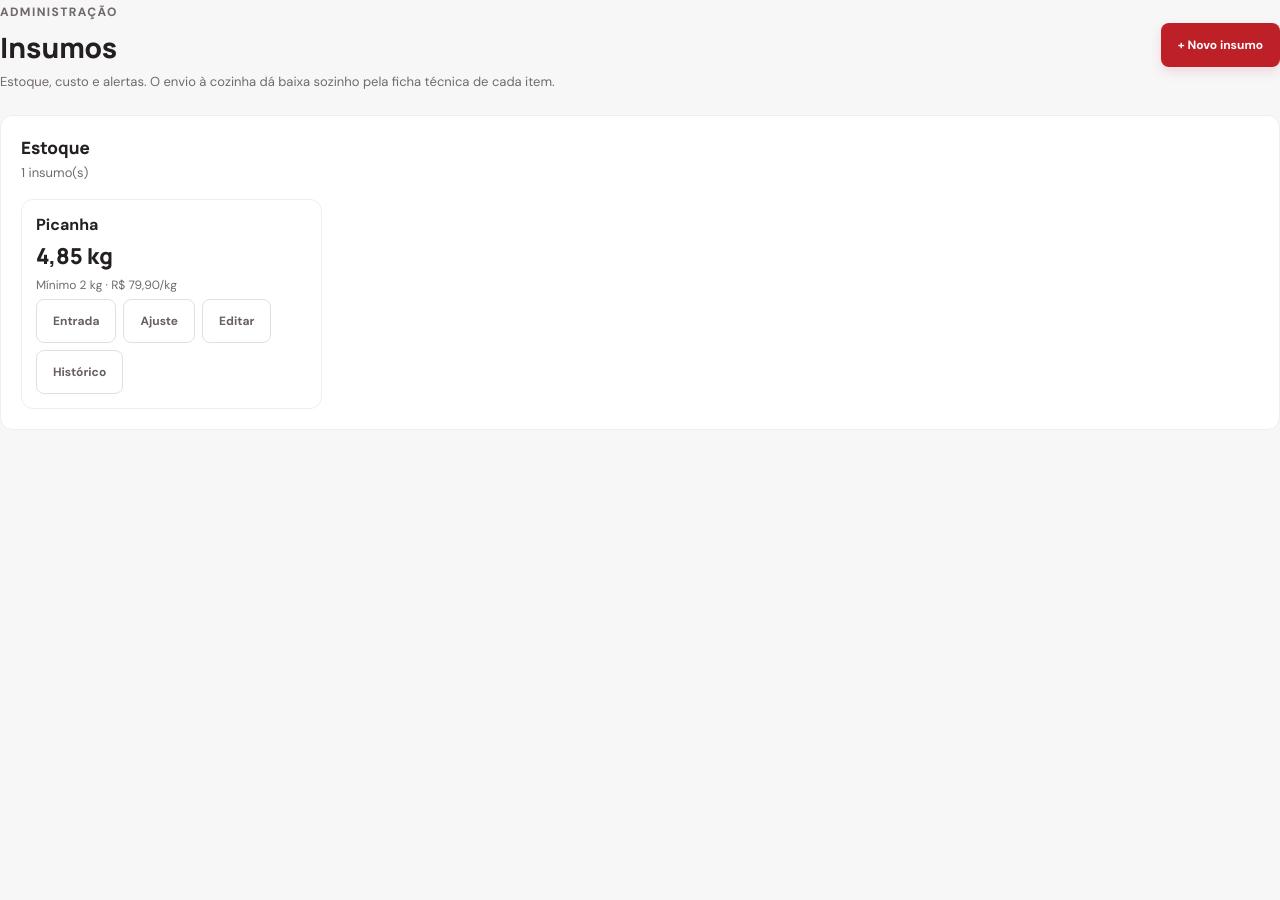
Histórico do insumo por período, turno e CSV (spec 018) › sem turno aberto, "Só o turno atual" fica desabilitado com a dica
What coordinates should you click on to do the following:
click the button "Histórico"
I would click on:
 (80, 372)
Its box is [36,350,123,394].
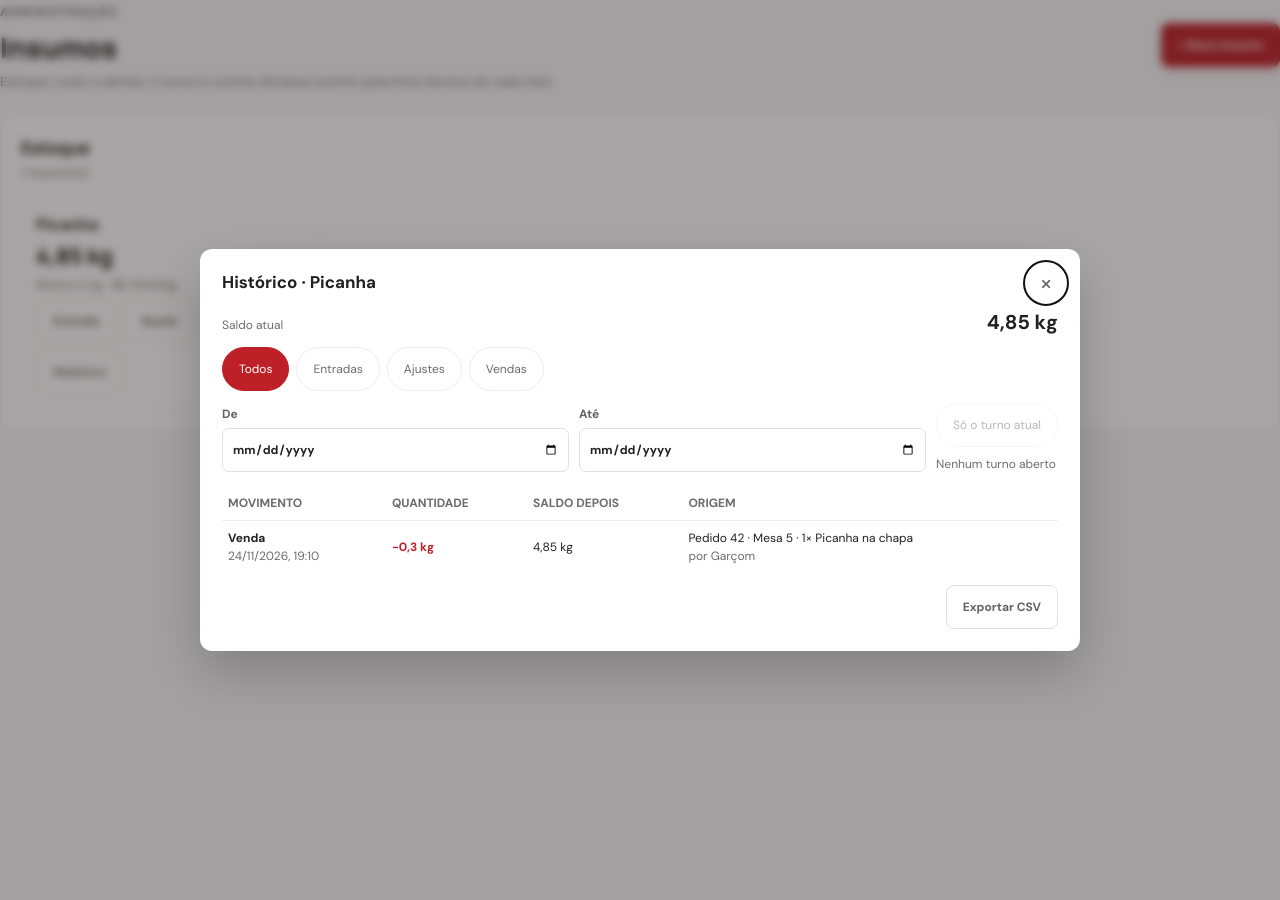
Now the button "Só o turno atual" is disabled, box [936,403,1058,447]
